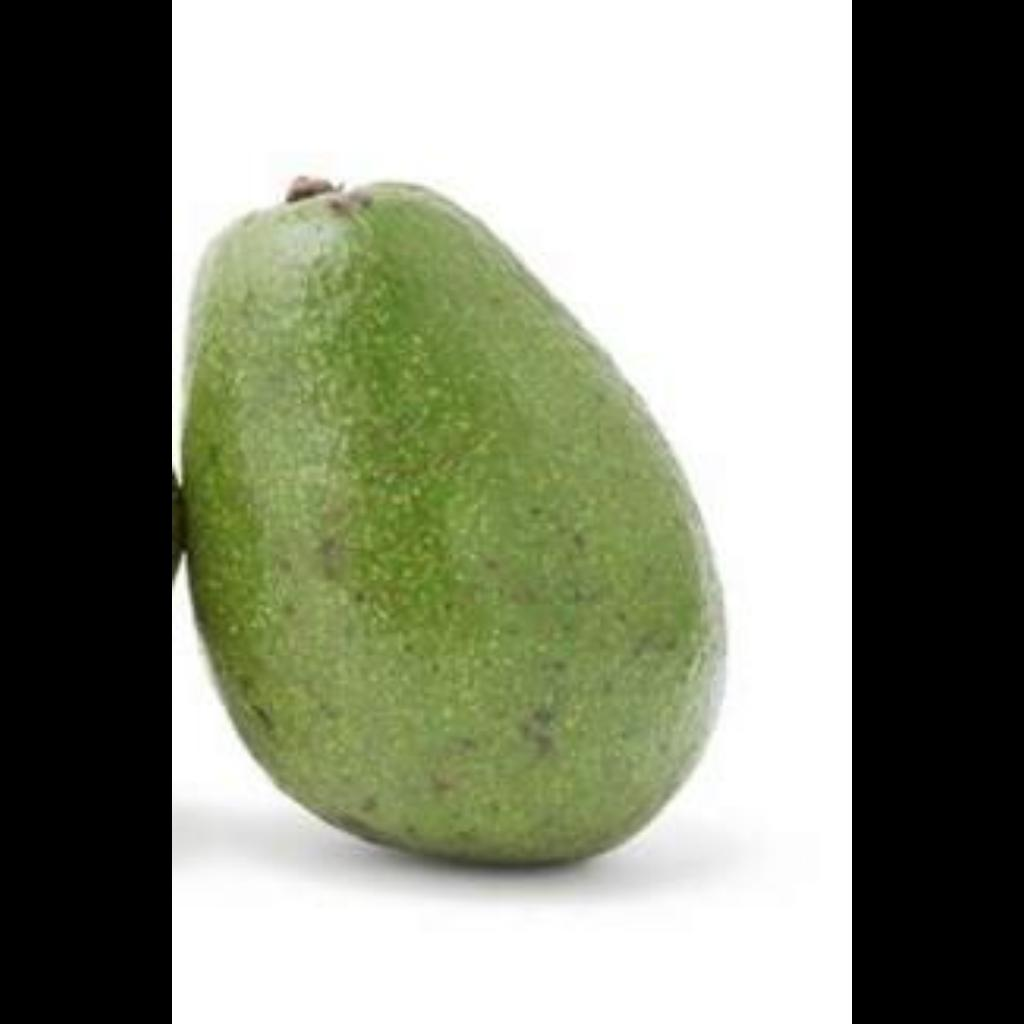fruto_sano: (185, 160, 755, 875)
